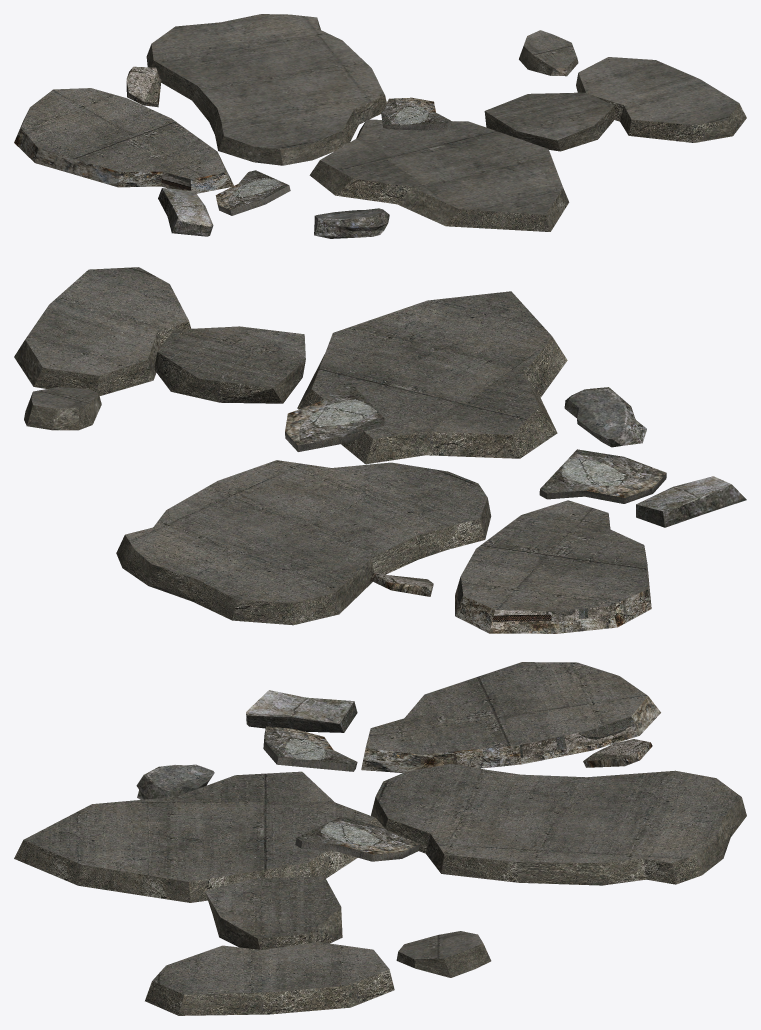
The model's file is Prop_Sst2.glb.
The picture shows the model from 3 angles, top to bottom: view 1: azimuth 30°, elevation 25°; view 2: azimuth 150°, elevation 25°; view 3: azimuth 270°, elevation 25°; orthographic projection. The views are drawn at different scales.
Visible parts, largest first — view 1: xiutz_sst2_0; view 2: xiutz_sst2_0; view 3: xiutz_sst2_0.
Part boxes in pixels (box(x1,y1,x2,y2)): xiutz_sst2_0: box(14, 14, 746, 238); xiutz_sst2_0: box(14, 267, 746, 633); xiutz_sst2_0: box(14, 662, 746, 1015).
Bounding box in the file's own units: 2.3 × 0.1418 × 2.06.
2 materials, 2 textured.
